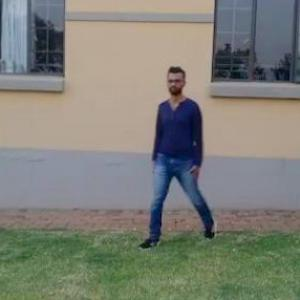follow: (153, 66, 206, 246)
